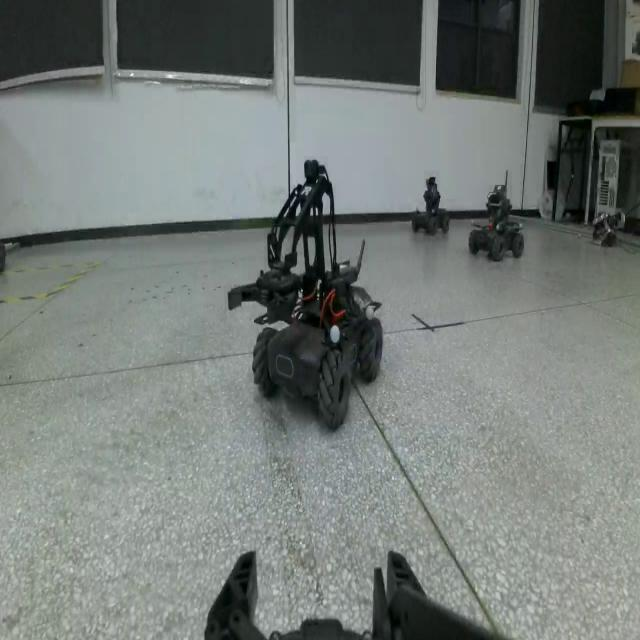ep: (222, 152, 392, 433)
s1: (468, 165, 528, 260), (405, 169, 453, 244)
